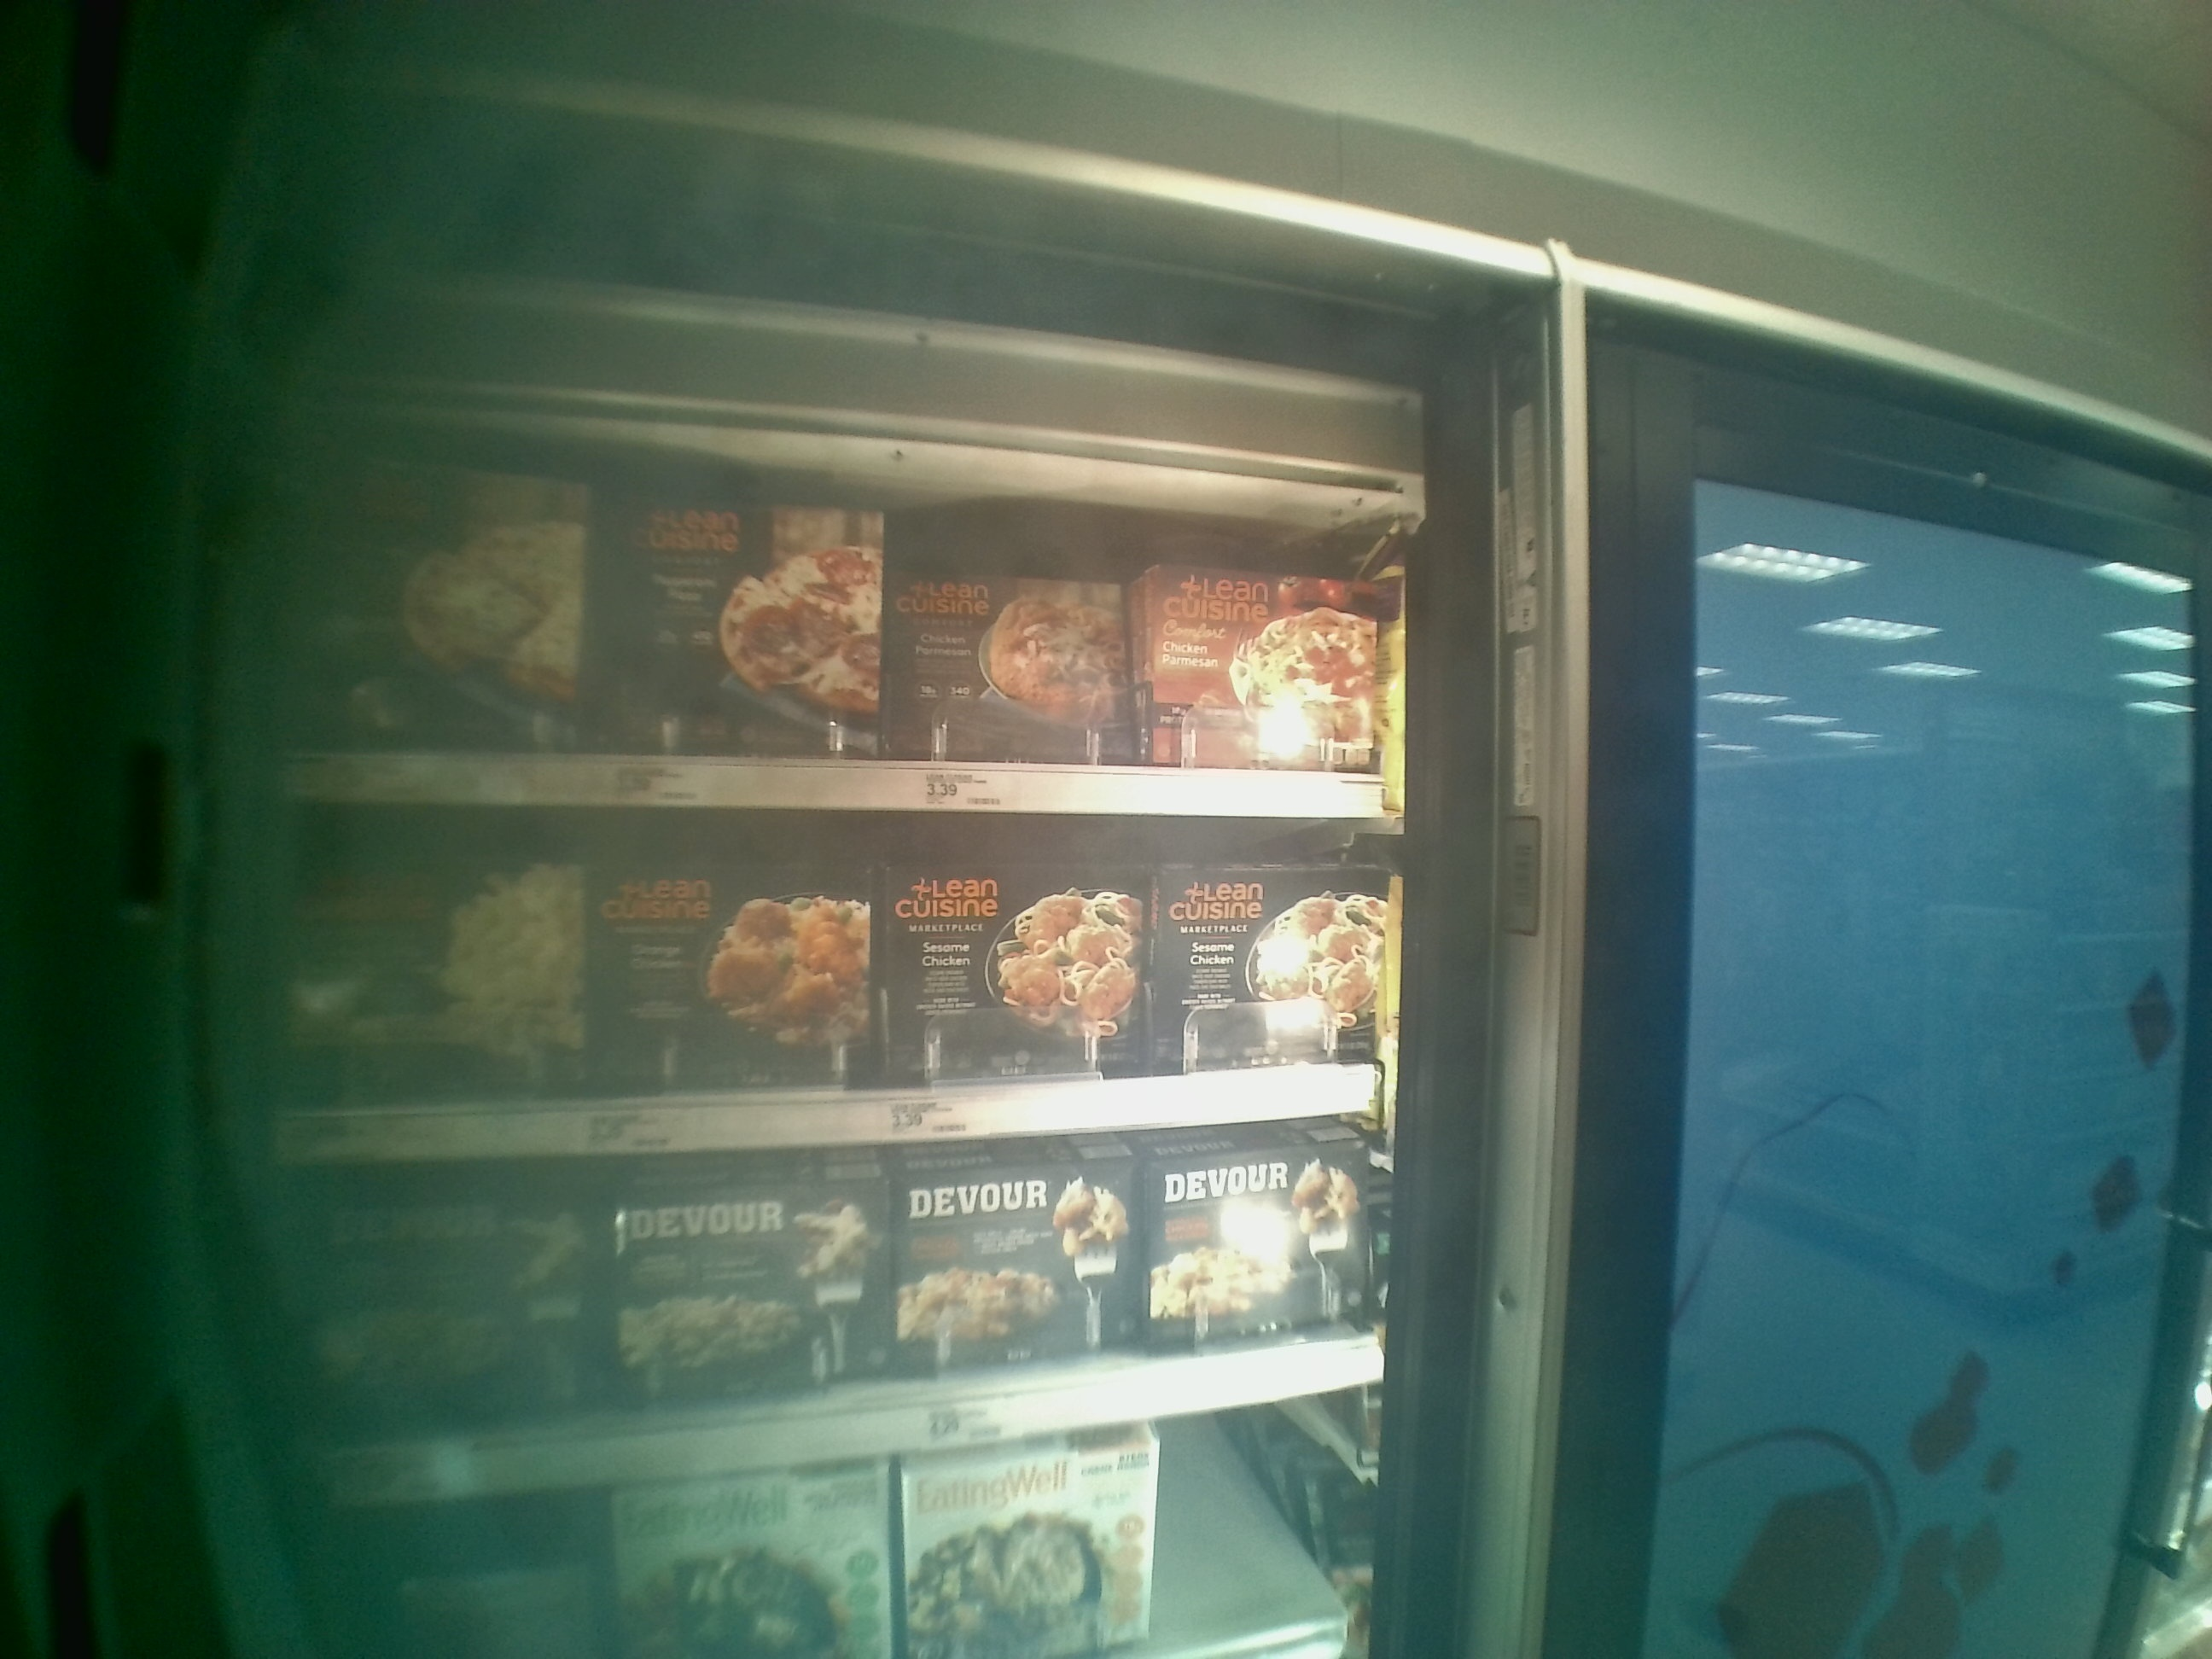shelf: (296, 380, 1404, 809), (277, 1068, 1406, 1485), (294, 803, 1413, 1175)
